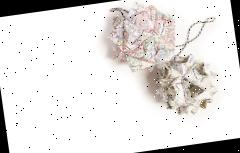paper: (103, 0, 181, 76), (151, 50, 222, 118)
